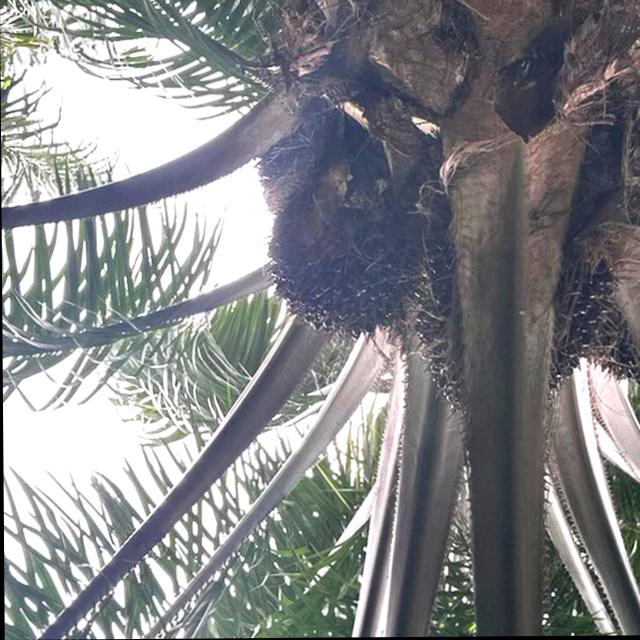unripe: (415, 229, 614, 431), (262, 180, 414, 342)
